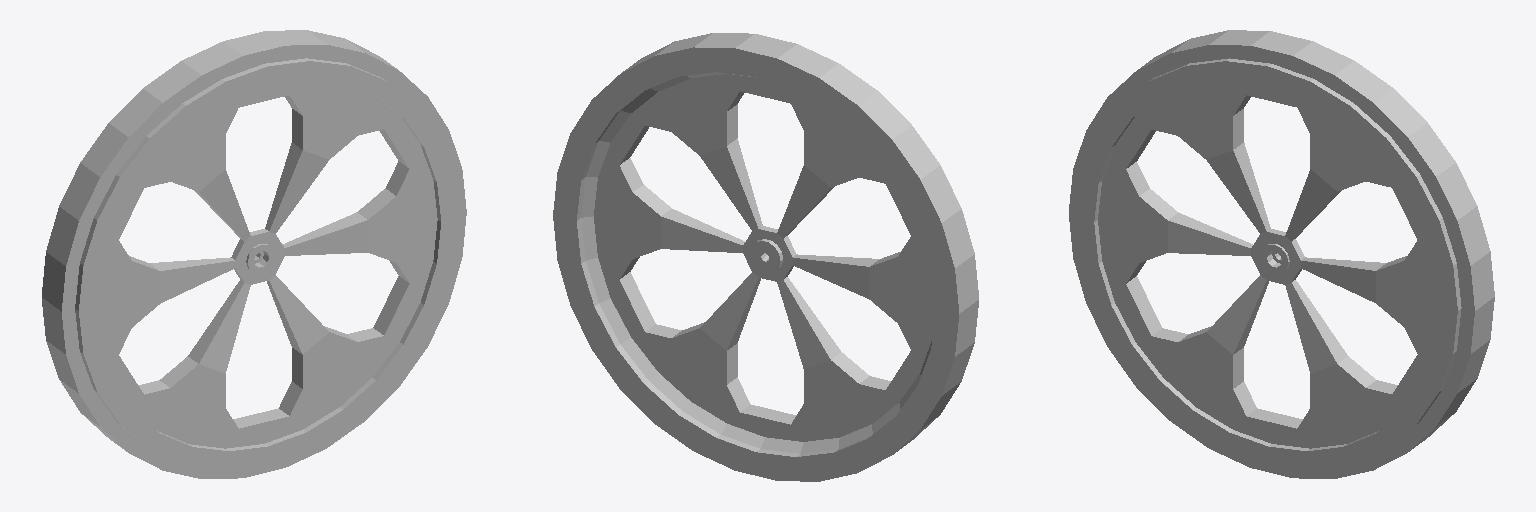
Rendered from lightweightwheel.obj.
The picture shows the model from 3 angles: view 1: azimuth 30°, elevation 25°; view 2: azimuth 150°, elevation 25°; view 3: azimuth 330°, elevation 25°; orthographic projection.
Parts seen in each view (by area): view 1: EGR101_wheel.001; view 2: EGR101_wheel.001; view 3: EGR101_wheel.001.
Part boxes in pixels (x1,y1,x2,y2): EGR101_wheel.001: (42,30,466,478); EGR101_wheel.001: (553,33,978,481); EGR101_wheel.001: (1069,30,1494,478).
Bounding box in the file's own units: 65.29 × 64.92 × 6.77.